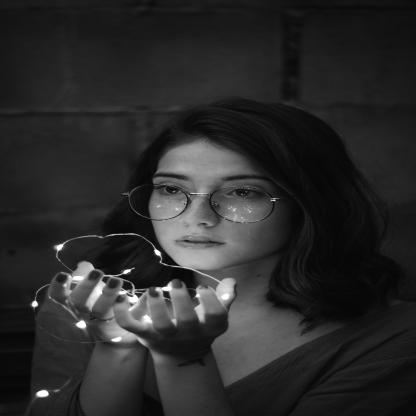Eye: (224, 185, 266, 201), (155, 182, 189, 198)
Mouth: (174, 234, 225, 249)
Nose: (179, 196, 218, 228)
